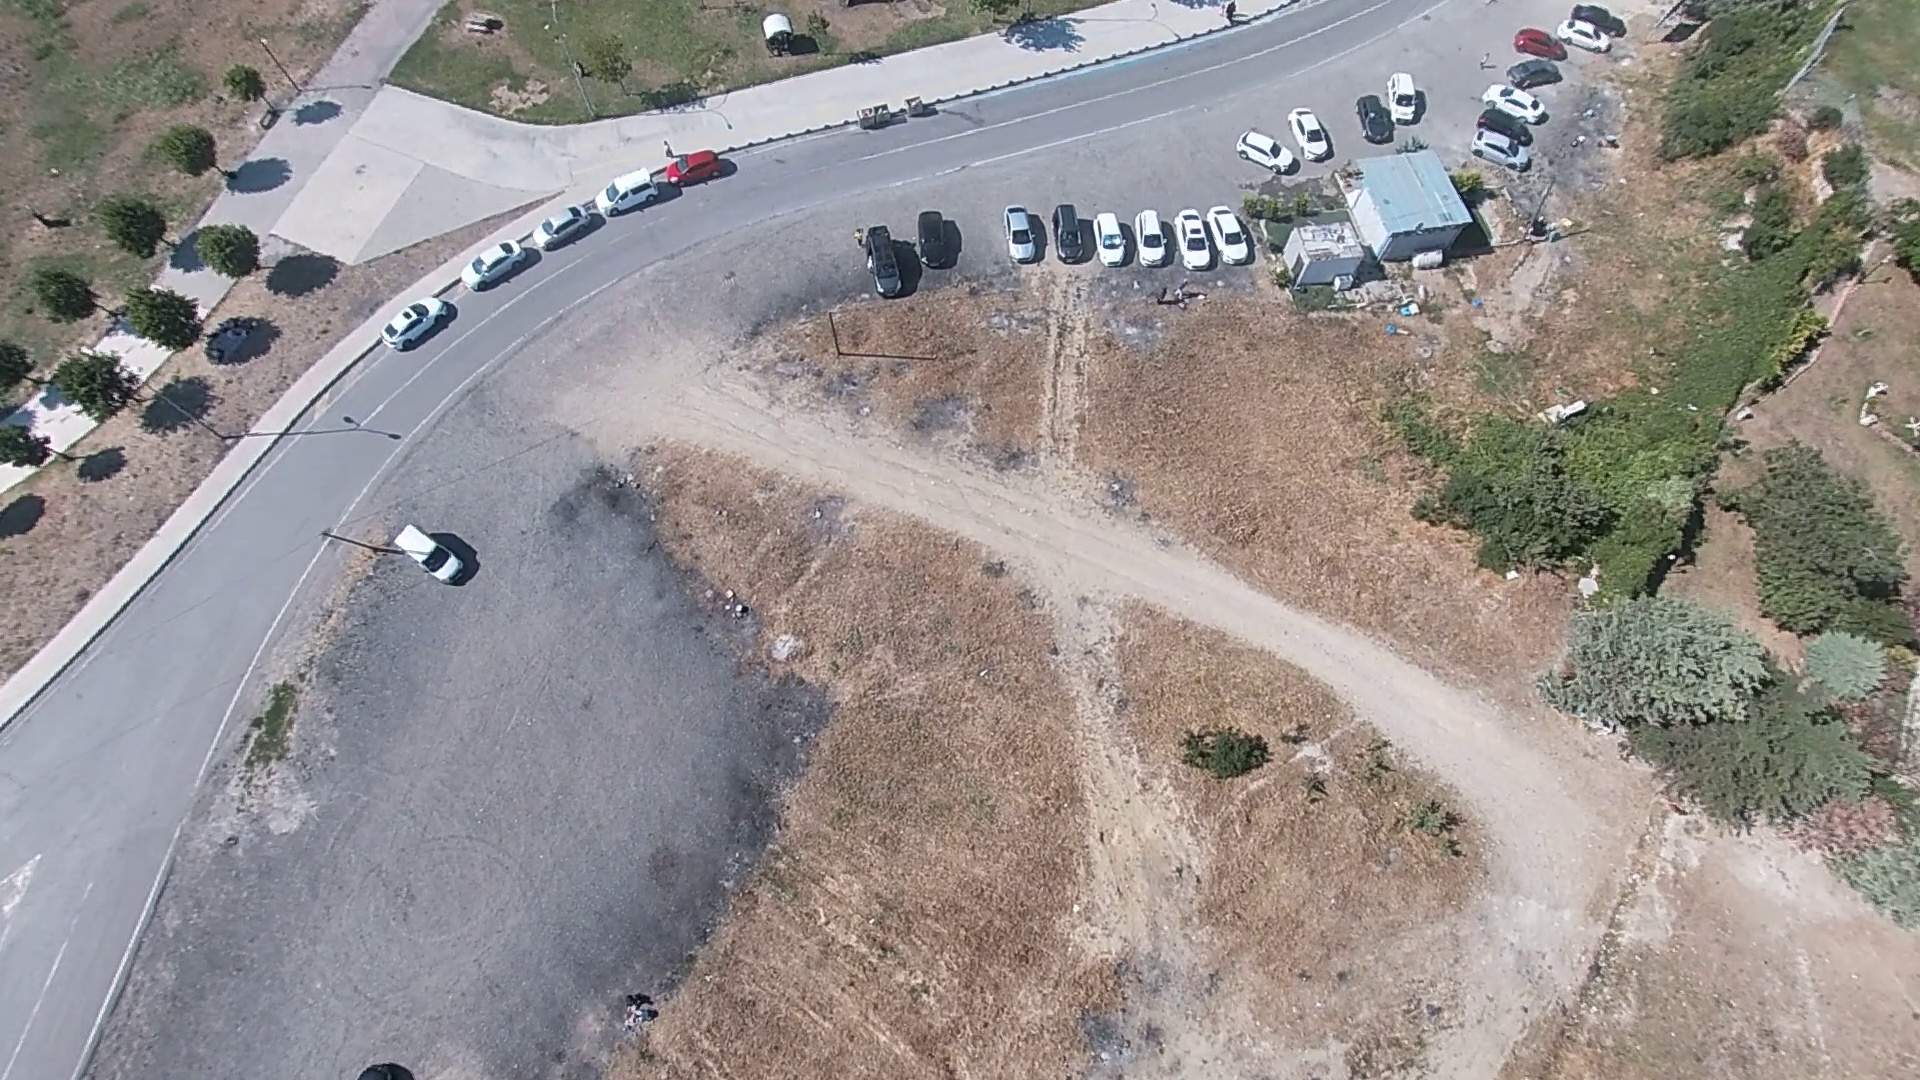arac: (397, 524, 475, 585), (381, 292, 457, 353), (469, 232, 541, 289), (1198, 197, 1246, 263), (1563, 8, 1624, 51), (1234, 126, 1293, 171), (1286, 100, 1333, 155), (1008, 200, 1048, 260), (1354, 90, 1395, 137), (1548, 396, 1590, 425)
insan: (620, 993, 658, 1026)
